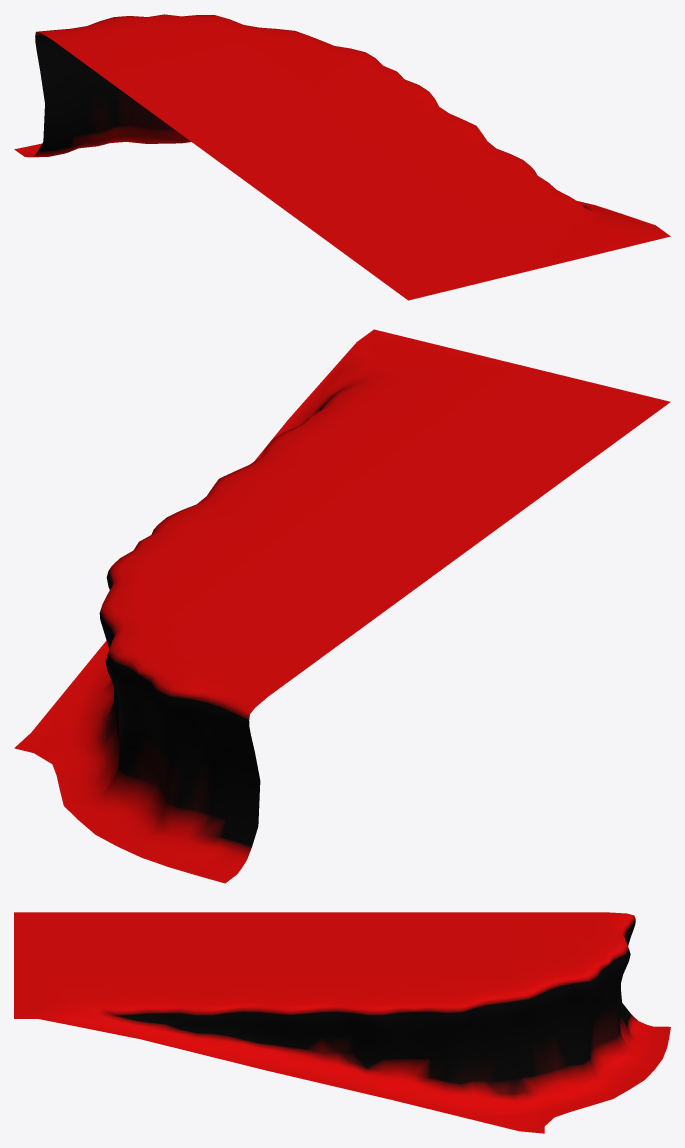
The model's file is ClimbCliff01A 1M Background.fbx.
The picture shows the model from 3 angles, top to bottom: view 1: azimuth 30°, elevation 25°; view 2: azimuth 150°, elevation 25°; view 3: azimuth 270°, elevation 25°; orthographic projection. The views are drawn at different scales.
Visible parts, largest first — view 1: ClimbCliff01A 1M Background; view 2: ClimbCliff01A 1M Background; view 3: ClimbCliff01A 1M Background.
Boxes of the visible parts, x1,y1,x2,y2 form: ClimbCliff01A 1M Background: (14, 14, 670, 300); ClimbCliff01A 1M Background: (14, 329, 670, 883); ClimbCliff01A 1M Background: (14, 912, 670, 1133).
Size of the model in its own units: 2 by 1 by 5.2.
